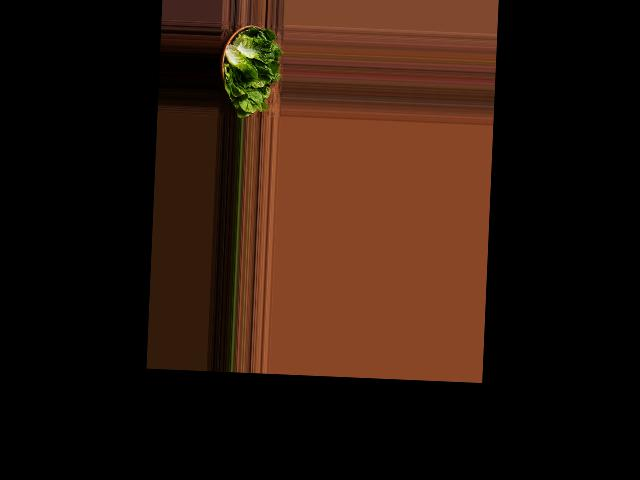lettuce: (218, 20, 281, 117)
